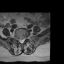CCS_normal: (20, 37, 22, 44)
LFS_normal: (24, 36, 26, 41)
LLS_normal: (22, 37, 24, 43)
RFS_normal: (17, 36, 19, 42)
RLS_normal: (19, 37, 20, 43)
